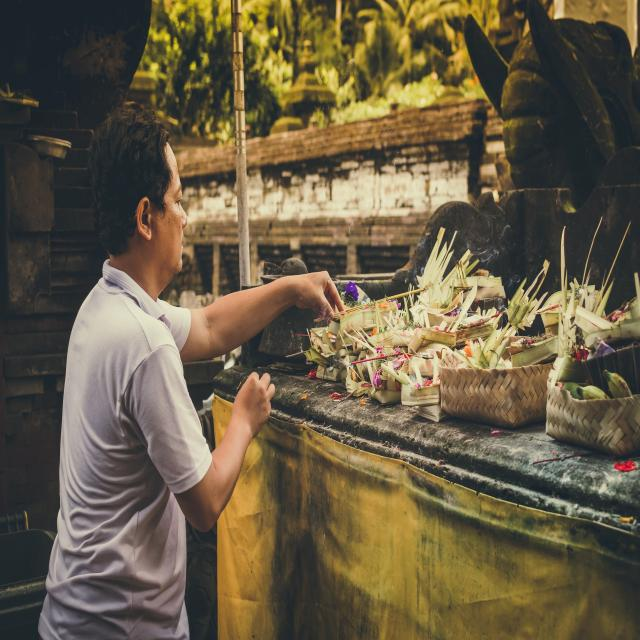adult: (39, 116, 341, 640)
